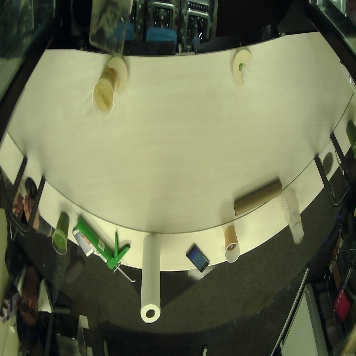coffee_cup: (223, 226, 241, 263)
empty_cup: (281, 190, 305, 244)
full_cup: (92, 67, 117, 116), (52, 211, 69, 255)
puck: (107, 53, 129, 90), (231, 48, 253, 85)
